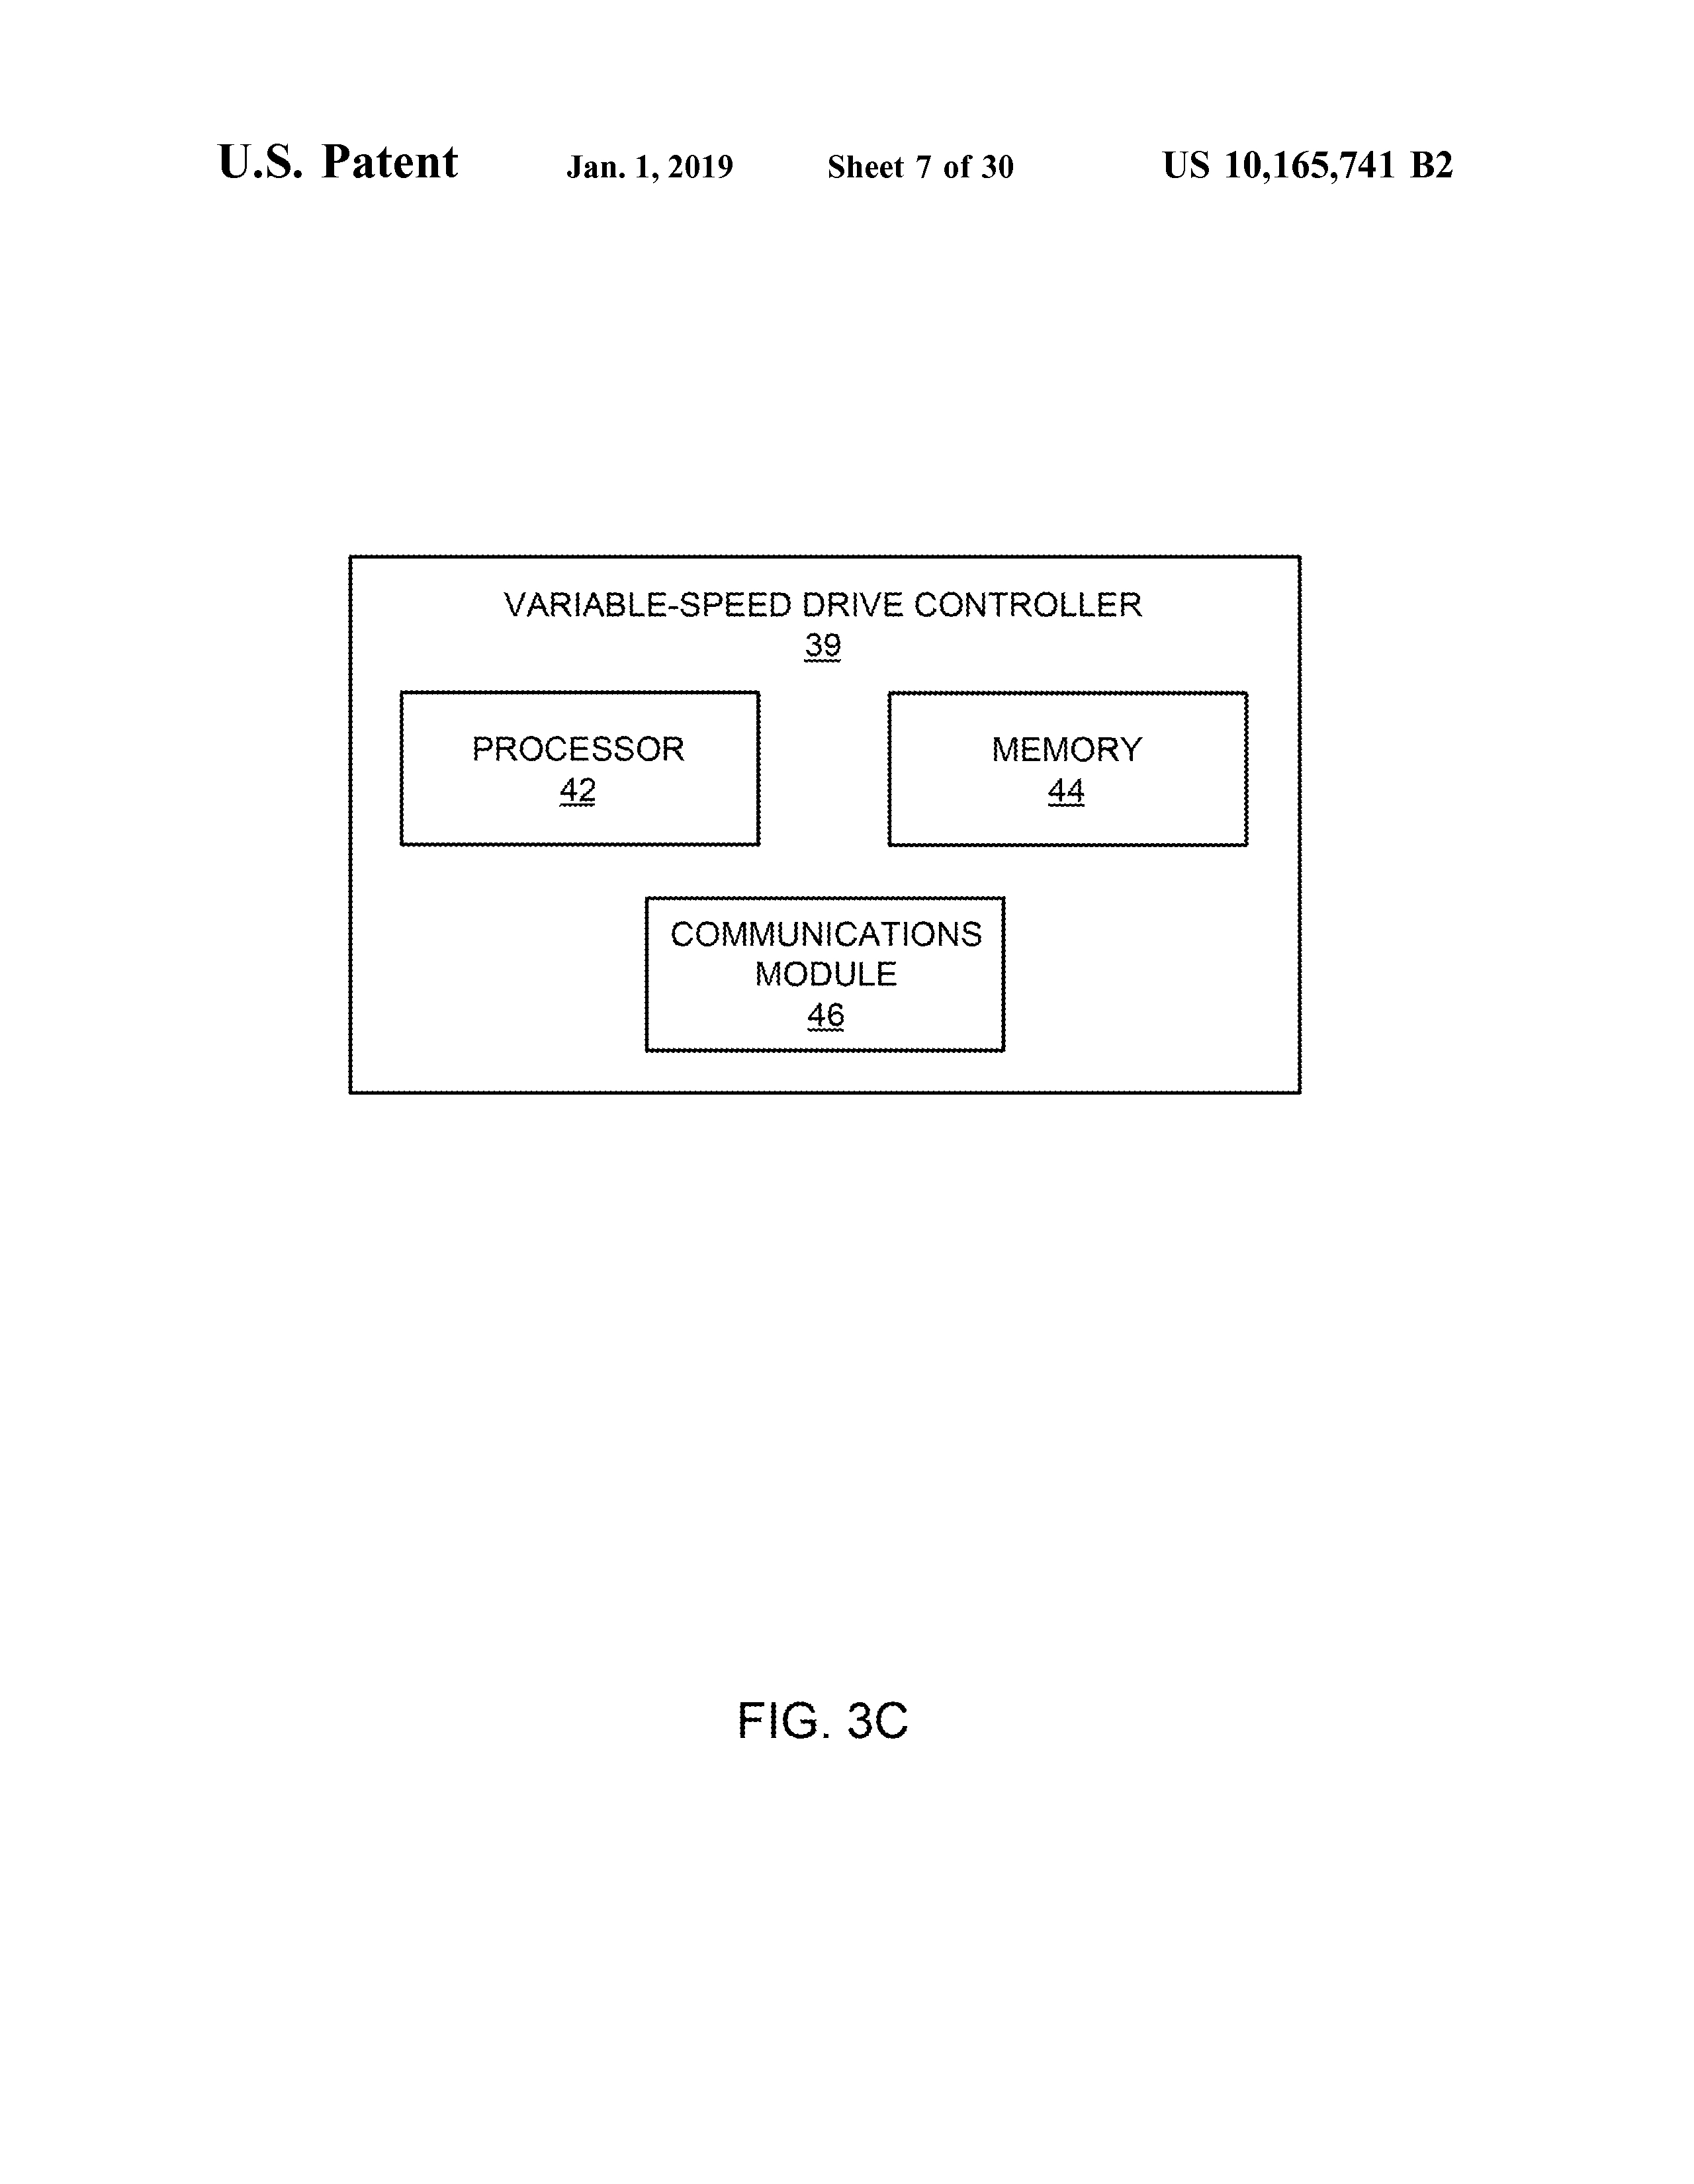patent image: (324, 510, 1333, 1768)
